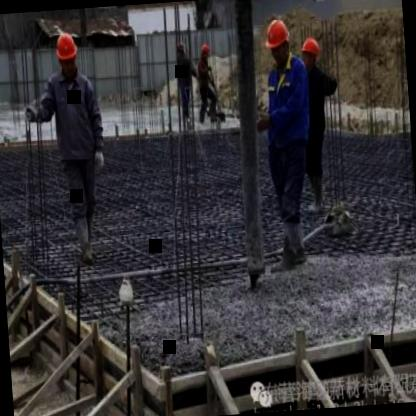helmet: (263, 16, 293, 65), (52, 30, 81, 79), (300, 34, 322, 72), (199, 40, 211, 64)
